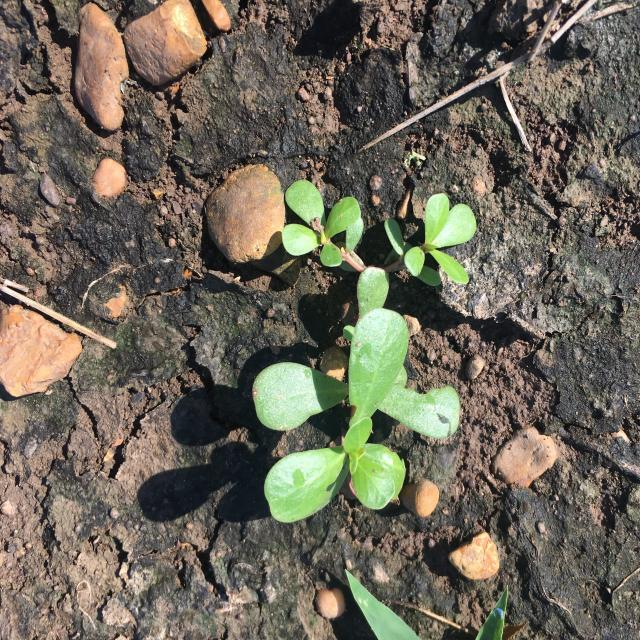Purslane: (252, 180, 477, 523)
